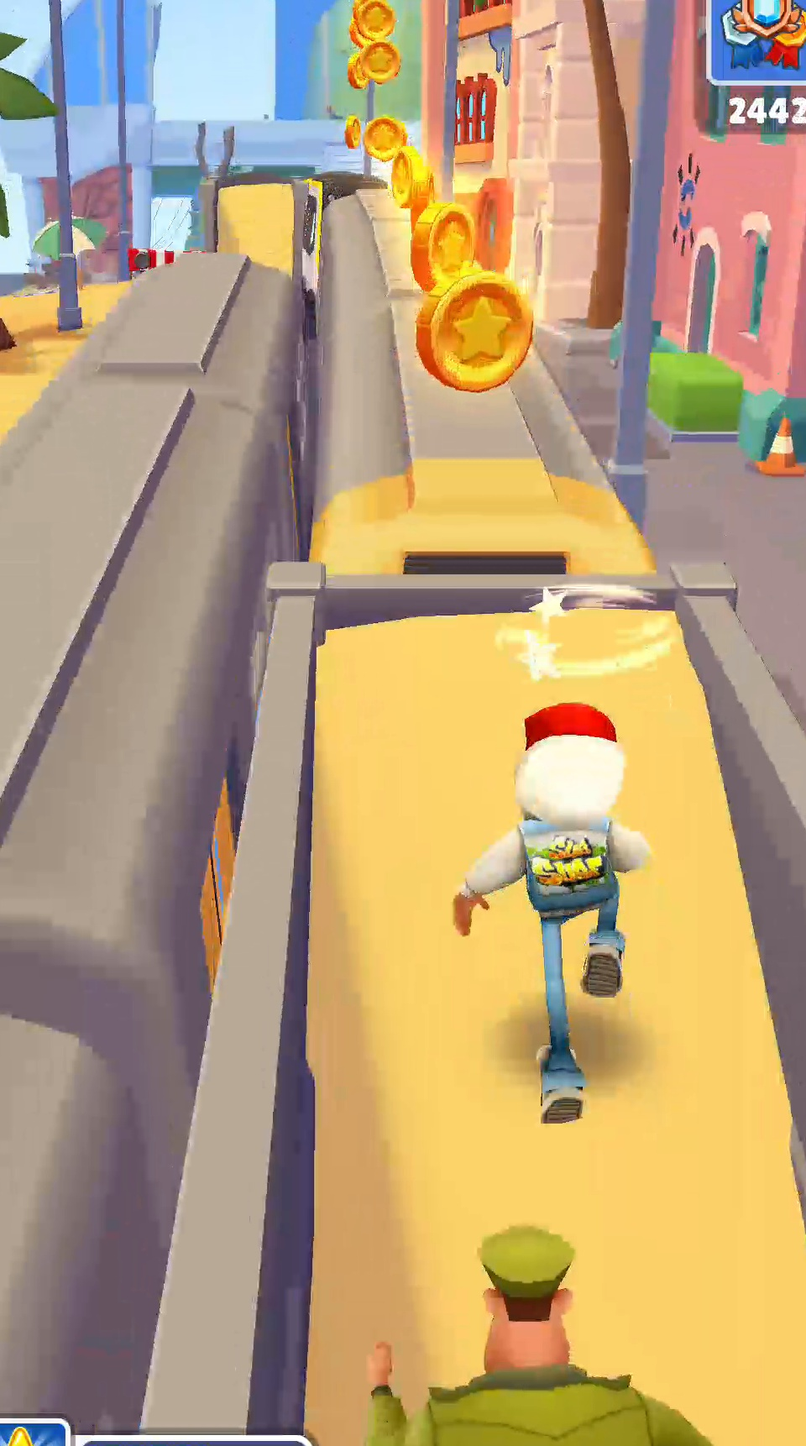climber: (218, 182, 296, 275)
train: (318, 171, 385, 207)
